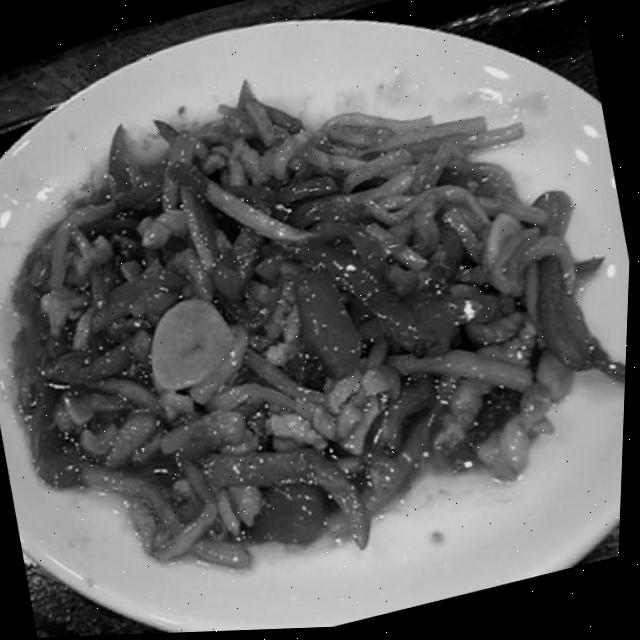牛肉菜式: (0, 48, 638, 640)
